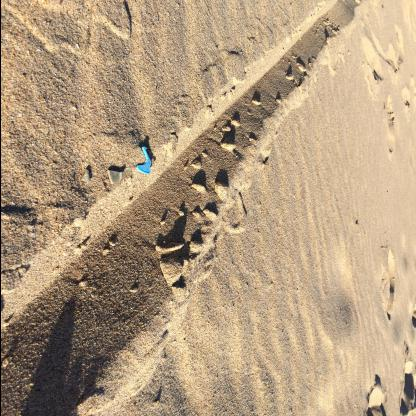plastik: (135, 146, 151, 174)
